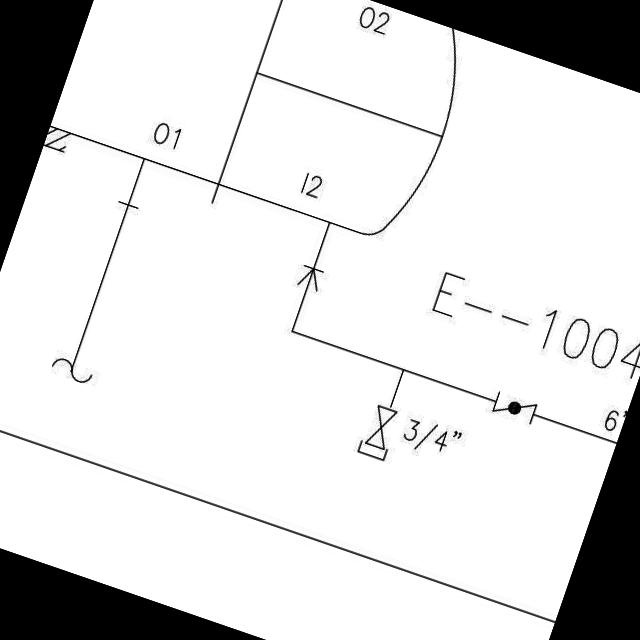EC: (351, 390, 407, 467)
GV: (360, 398, 397, 452)
